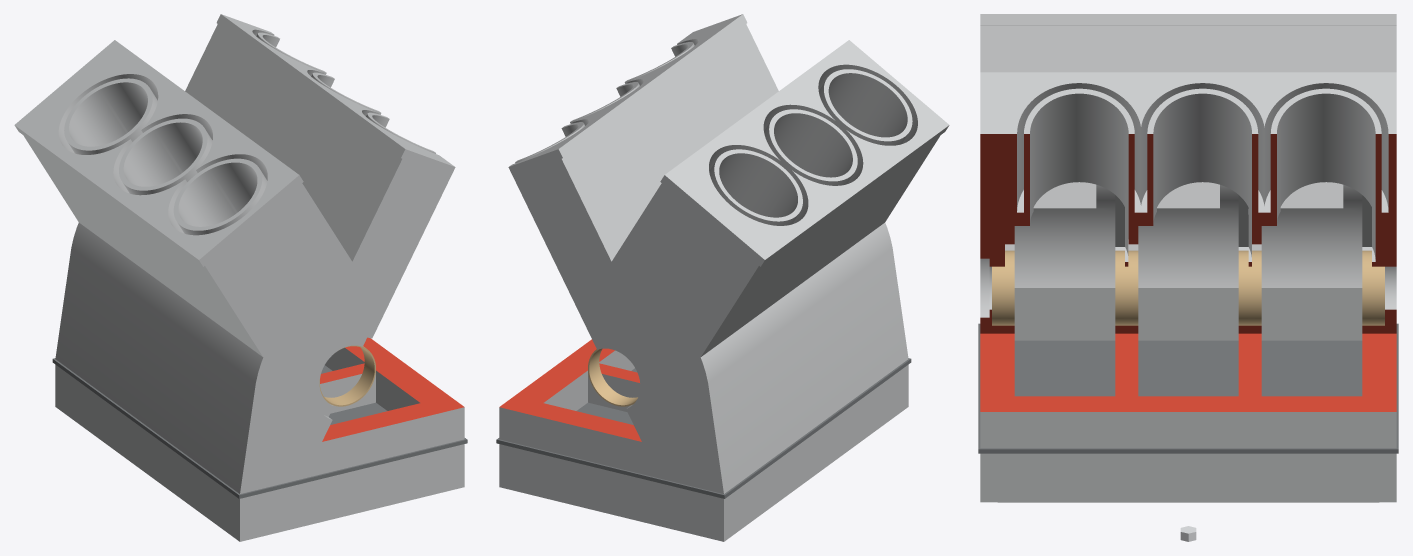
File: block.glb
3 views of the same model, side by side, from view 1: azimuth 30°, elevation 25°; view 2: azimuth 150°, elevation 25°; view 3: azimuth 270°, elevation 25° (orthographic). The views are drawn at different scales.
Parts seen in each view (by area): view 1: alu_cast_1, section_0, darksteel_4, bearing_2; view 2: alu_cast_1, section_0, darksteel_4, bearing_2; view 3: alu_cast_1, section_0, darksteel_4, bearing_2.
Boxes of the visible parts, x1=… form: alu_cast_1: x1=14, y1=14, x2=464, y2=541; section_0: x1=320, y1=337, x2=464, y2=441; darksteel_4: x1=52, y1=358, x2=467, y2=498; bearing_2: x1=319, y1=345, x2=375, y2=406; alu_cast_1: x1=499, y1=14, x2=949, y2=541; section_0: x1=499, y1=339, x2=641, y2=441; darksteel_4: x1=496, y1=358, x2=911, y2=498; bearing_2: x1=588, y1=348, x2=637, y2=406; alu_cast_1: x1=980, y1=14, x2=1396, y2=502; section_0: x1=980, y1=134, x2=1396, y2=411; darksteel_4: x1=978, y1=323, x2=1398, y2=453; bearing_2: x1=992, y1=250, x2=1384, y2=325.
Bounding box in the file's own units: 0.3047 × 0.4545 × 0.368.
